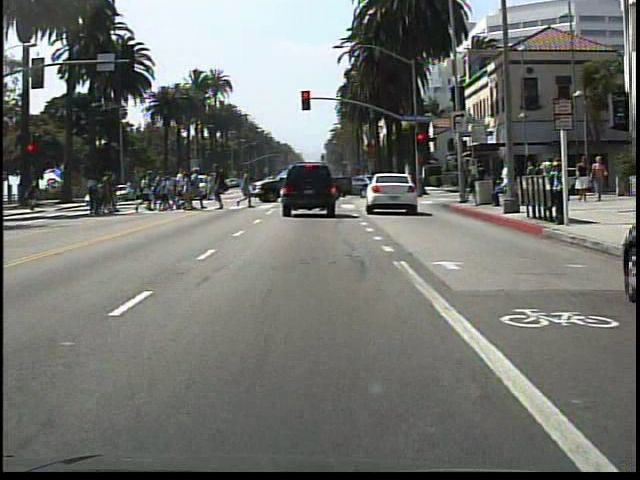person: (546, 156, 565, 226), (573, 155, 592, 206), (590, 153, 608, 205)
